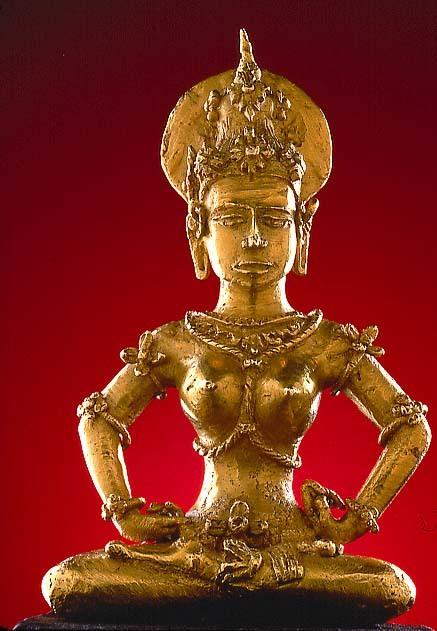golden_tara_of_agusan: (39, 25, 433, 624)
